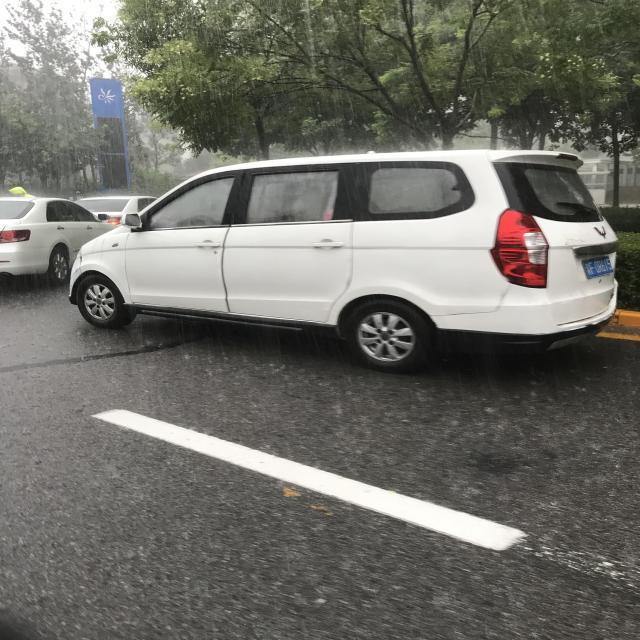car: (148, 16, 374, 574), (193, 528, 281, 638)
